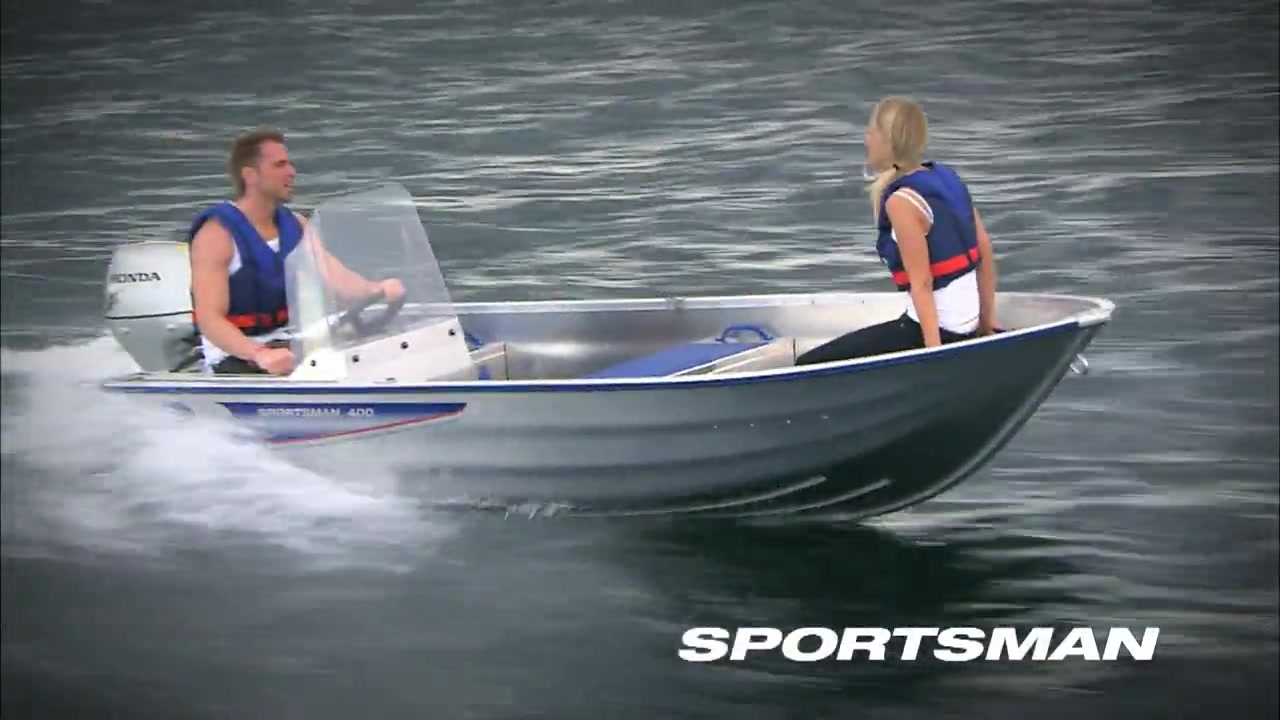boat: (96, 185, 1126, 534)
